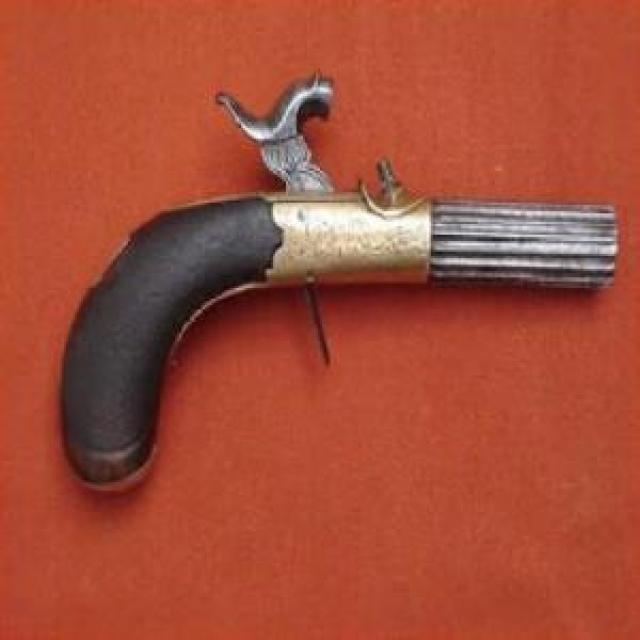pistol: (47, 64, 620, 496)
